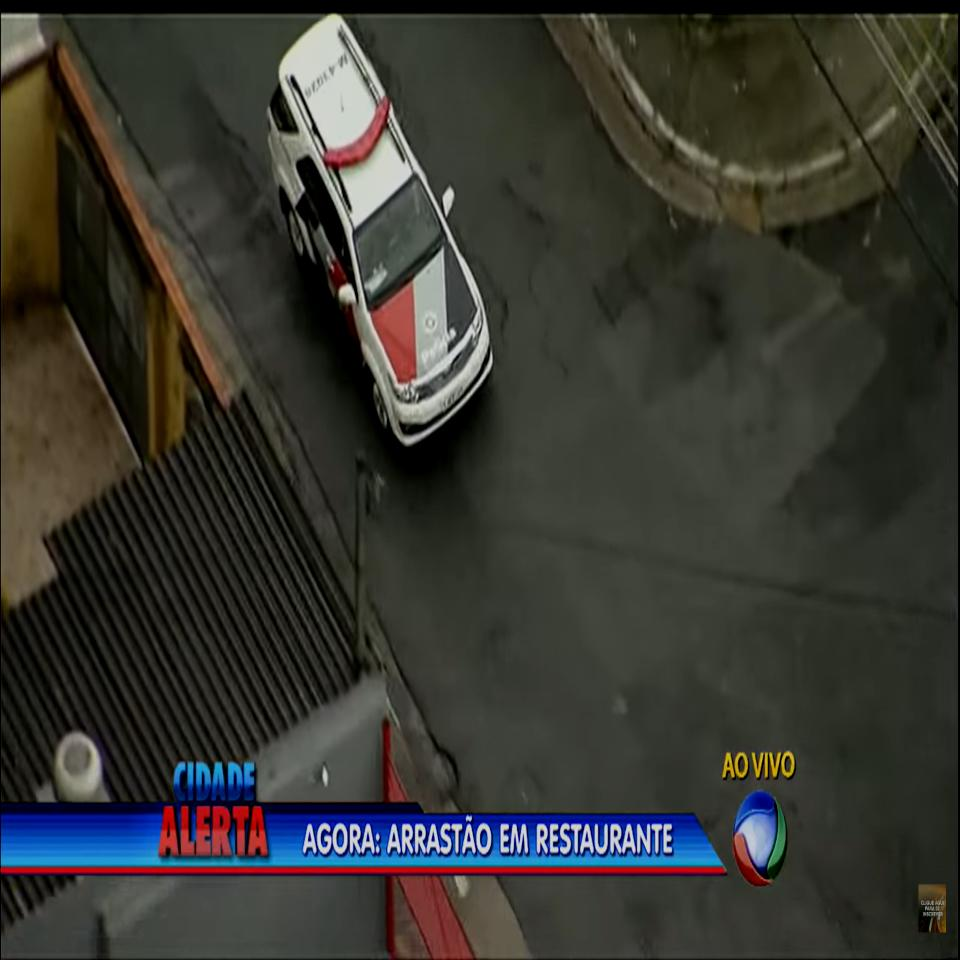viatura: (258, 1, 508, 466)
